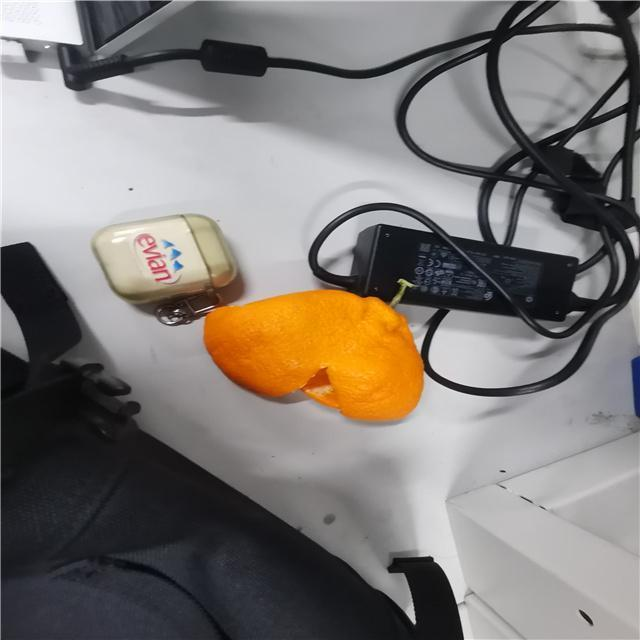orange peel: (204, 289, 426, 429)
